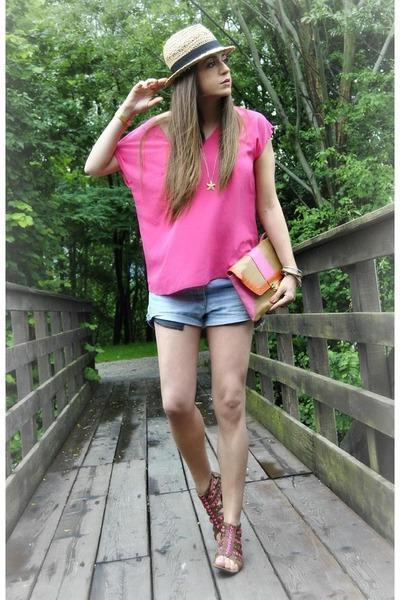Shorts: (137, 272, 267, 329)
short sleeve shirt: (116, 102, 278, 294)
